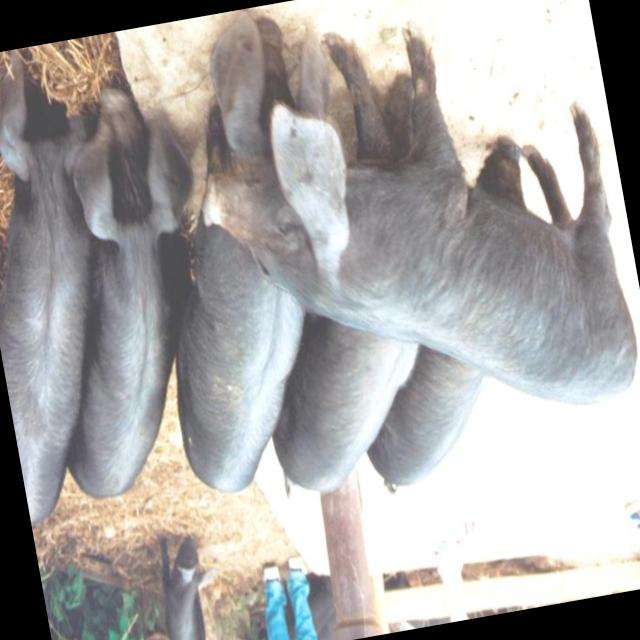pig: (203, 32, 636, 402), (67, 88, 191, 498), (0, 52, 91, 522), (176, 217, 304, 492), (272, 314, 417, 492), (367, 345, 482, 489), (206, 13, 293, 173), (159, 536, 216, 640), (477, 140, 524, 209), (298, 37, 329, 117), (386, 78, 412, 156)
